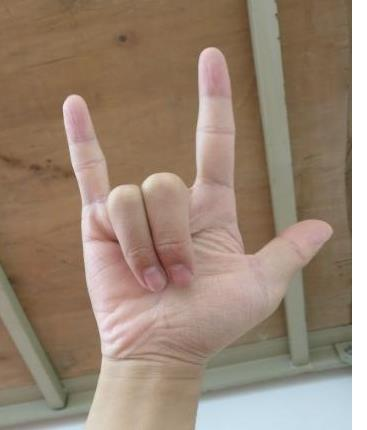back: (48, 40, 335, 351)
